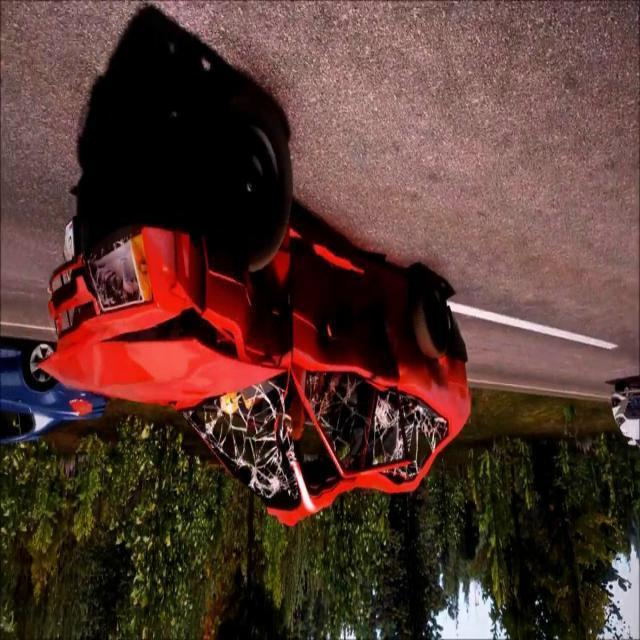severe: (33, 78, 471, 534)
